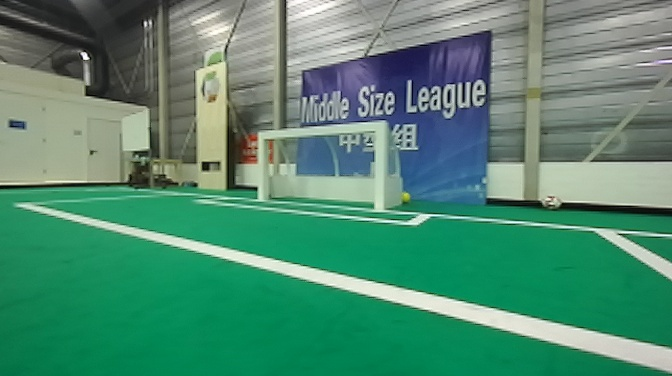ball: (540, 187, 566, 209), (395, 187, 414, 214)
goalpost: (369, 116, 393, 215), (252, 128, 282, 200)
